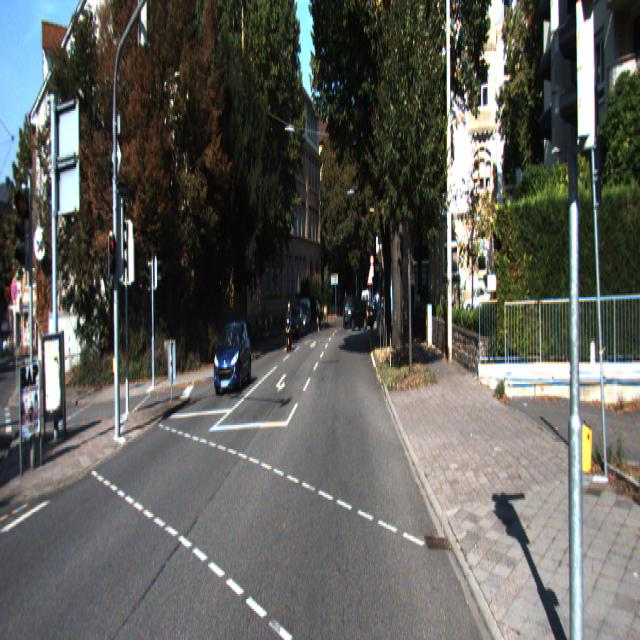Car: (213, 316, 253, 396), (289, 306, 305, 342), (285, 301, 294, 351)
